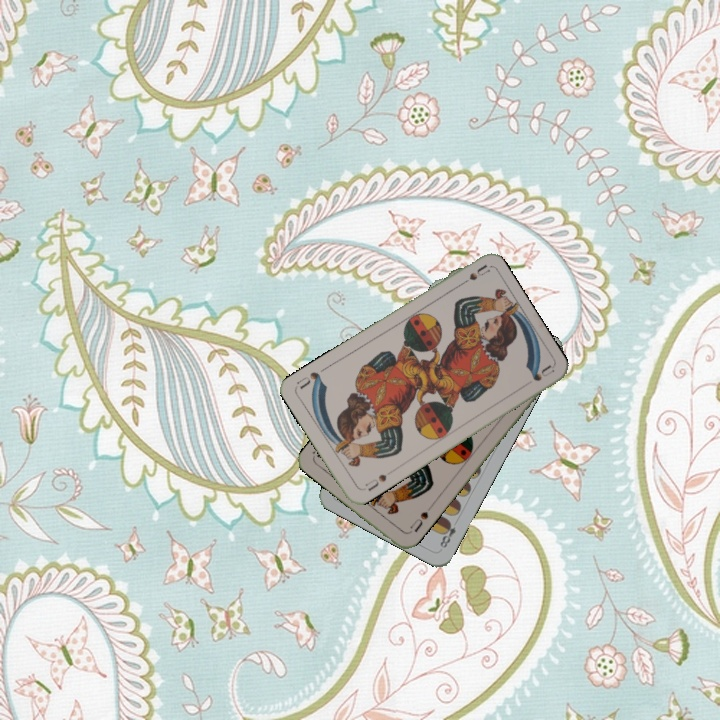E8: (436, 517, 459, 551)
SU: (453, 261, 491, 290), (404, 502, 433, 536), (358, 470, 389, 494)
